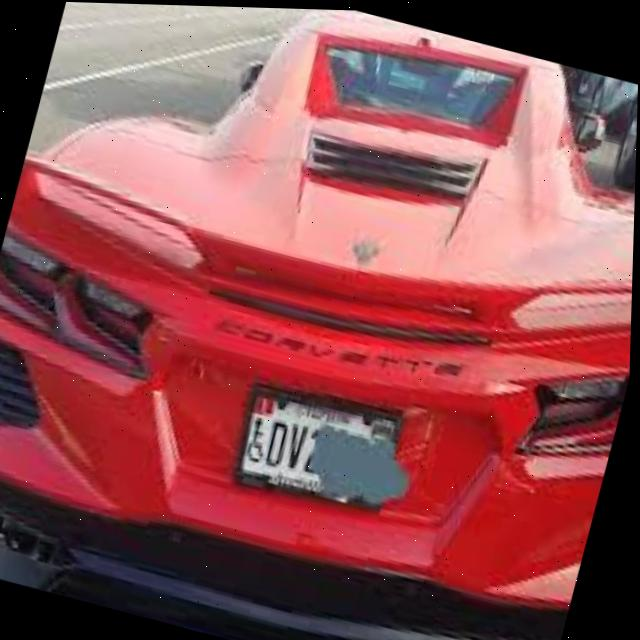symbol_of_access: (241, 411, 283, 474)
